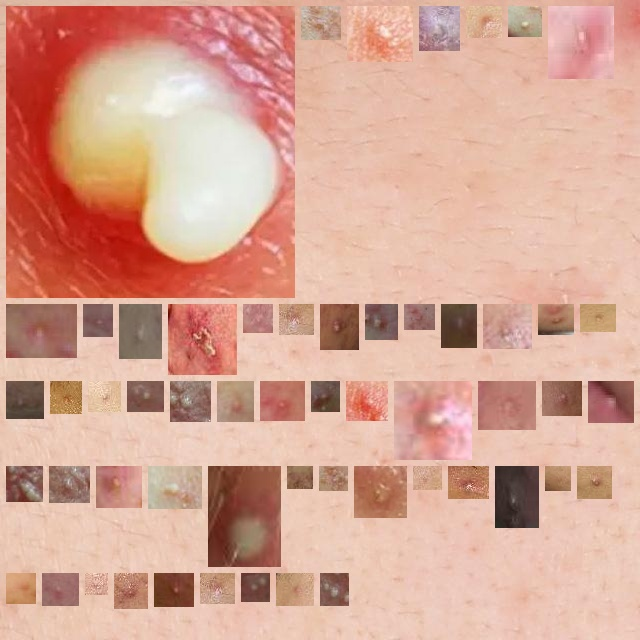pustule: (14, 14, 287, 290), (216, 474, 273, 559), (402, 389, 464, 452), (176, 312, 229, 367), (556, 14, 606, 71), (14, 312, 69, 350), (355, 14, 405, 54), (496, 474, 531, 520), (486, 389, 528, 422), (362, 474, 399, 510), (127, 312, 154, 351), (156, 474, 194, 501), (491, 312, 524, 341), (596, 389, 626, 415), (104, 474, 134, 500), (427, 14, 452, 43), (268, 389, 297, 413), (328, 312, 351, 342), (178, 389, 203, 414), (354, 389, 380, 413), (449, 312, 469, 340), (225, 389, 246, 414), (57, 474, 82, 495), (14, 389, 36, 411), (550, 389, 574, 408), (309, 14, 333, 32), (162, 581, 186, 599), (456, 474, 481, 491), (14, 474, 35, 494), (284, 581, 306, 598), (122, 581, 140, 601), (50, 581, 71, 598), (373, 312, 390, 332), (585, 474, 604, 491), (474, 14, 494, 30), (135, 389, 156, 404), (546, 312, 566, 327), (287, 312, 306, 327), (208, 581, 227, 596), (58, 389, 74, 406), (516, 14, 534, 29), (96, 389, 113, 404), (588, 312, 608, 324), (91, 312, 105, 329), (328, 581, 341, 598), (14, 581, 28, 596), (319, 389, 332, 404), (251, 312, 265, 325), (249, 581, 262, 594), (412, 312, 427, 322), (327, 474, 340, 483), (421, 474, 434, 482), (553, 474, 563, 483), (295, 474, 305, 481), (93, 581, 100, 587)
